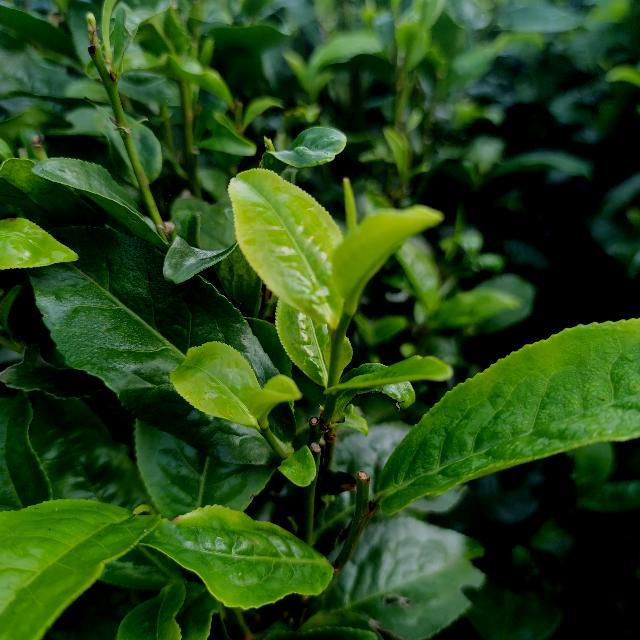Stem: (331, 332, 342, 348)
